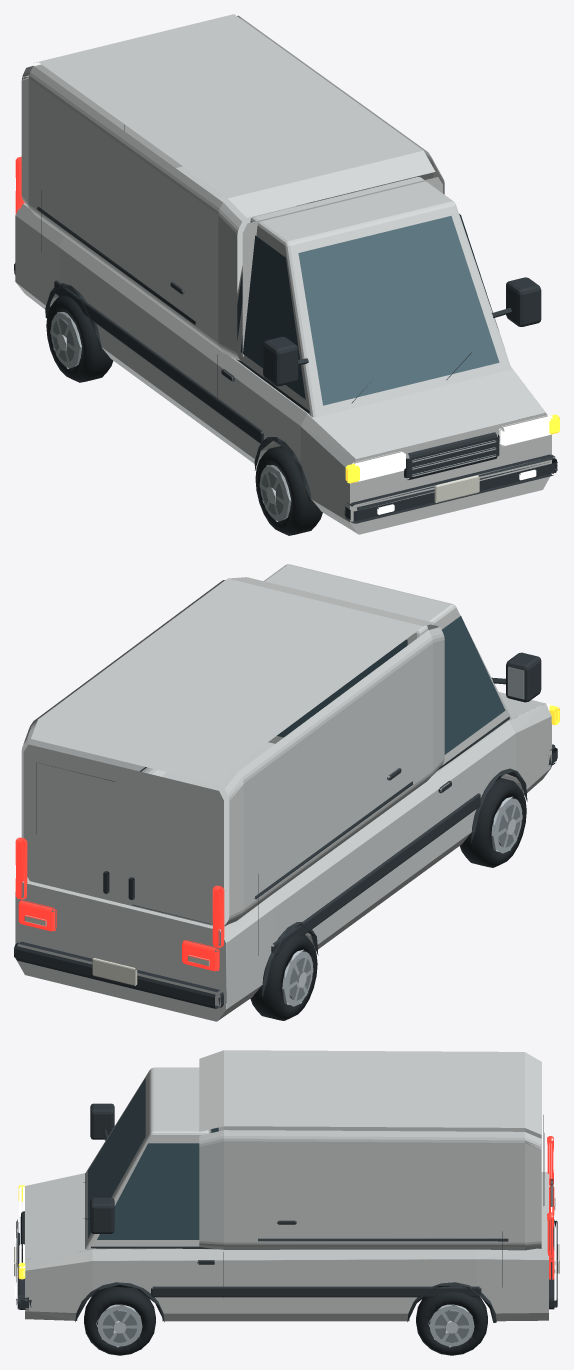
File: van.glb
The picture shows the model from 3 angles, top to bottom: view 1: azimuth 30°, elevation 25°; view 2: azimuth 150°, elevation 25°; view 3: azimuth 270°, elevation 25°; orthographic projection. The views are drawn at different scales.
Visible parts, largest first — view 1: BodyMesh_Paint_VanWhite, ShapeSafe_BodyMesh_Glass_Reflection, ShapeSafe_BodyMesh_Paint_VanWhite, BodyMesh_Trim_Graphite, ShapeSafe_BodyMesh_Glass_StylizedOpaque, ShapeSafe_BodyMesh_Trim_Graphite, Wheel_FR.005_Mesh_Rubber_Tires, Wheel_RR.005_Mesh_Rubber_Tires, Headlamp_L.005, Headlamp_R.005, BodyMesh_Plate_Bone, Wheel_FR.005_Mesh_Metal_SatinAluminum (+2 smaller); view 2: BodyMesh_Paint_VanWhite, BodyMesh_Trim_Graphite, ShapeSafe_BodyMesh_Glass_StylizedOpaque, ShapeSafe_BodyMesh_Paint_VanWhite, Wheel_FR.005_Mesh_Rubber_Tires, Wheel_RR.005_Mesh_Rubber_Tires, BodyMesh_Plate_Bone, ShapeSafe_BodyMesh_Trim_Graphite, TailLamp_1.005, Wheel_RR.005_Mesh_Metal_SatinAluminum, Wheel_FR.005_Mesh_Metal_SatinAluminum, TailLamp_-1.005 (+2 smaller); view 3: BodyMesh_Paint_VanWhite, BodyMesh_Trim_Graphite, ShapeSafe_BodyMesh_Glass_StylizedOpaque, ShapeSafe_BodyMesh_Paint_VanWhite, ShapeSafe_BodyMesh_Glass_Reflection, Wheel_FL.005_Mesh_Rubber_Tires, Wheel_RL.005_Mesh_Rubber_Tires, ShapeSafe_BodyMesh_Trim_Graphite, Wheel_RL.005_Mesh_Metal_SatinAluminum, Wheel_FL.005_Mesh_Metal_SatinAluminum, Wheel_FL.005_Mesh_Brake_Disc, Wheel_RL.005_Mesh_Brake_Disc.
Boxes of the visible parts, x1,y1,x2,y2 form: BodyMesh_Paint_VanWhite: (15,14,551,534); ShapeSafe_BodyMesh_Glass_Reflection: (298,215,499,405); ShapeSafe_BodyMesh_Paint_VanWhite: (236,177,511,417); BodyMesh_Trim_Graphite: (14,124,557,523); ShapeSafe_BodyMesh_Glass_StylizedOpaque: (237,214,499,399); ShapeSafe_BodyMesh_Trim_Graphite: (263,277,541,386); Wheel_FR.005_Mesh_Rubber_Tires: (255,446,322,535); Wheel_RR.005_Mesh_Rubber_Tires: (46,295,113,382); Headlamp_L.005: (499,415,552,446); Headlamp_R.005: (350,451,405,482); BodyMesh_Plate_Bone: (434,475,479,502); Wheel_FR.005_Mesh_Metal_SatinAluminum: (259,465,291,521); BodyMesh_Paint_VanWhite: (15,577,551,1021); BodyMesh_Trim_Graphite: (14,677,557,1008); ShapeSafe_BodyMesh_Glass_StylizedOpaque: (277,616,505,754); ShapeSafe_BodyMesh_Paint_VanWhite: (264,564,511,775); Wheel_FR.005_Mesh_Rubber_Tires: (460,778,526,867); Wheel_RR.005_Mesh_Rubber_Tires: (250,934,317,1020); BodyMesh_Plate_Bone: (24,915,209,985); ShapeSafe_BodyMesh_Trim_Graphite: (506,652,541,702); TailLamp_1.005: (18,900,56,931); Wheel_RR.005_Mesh_Metal_SatinAluminum: (282,949,313,1006); Wheel_FR.005_Mesh_Metal_SatinAluminum: (491,796,522,853); TailLamp_-1.005: (182,940,219,971); BodyMesh_Paint_VanWhite: (25,1050,548,1321); BodyMesh_Trim_Graphite: (16,1115,557,1322); ShapeSafe_BodyMesh_Glass_StylizedOpaque: (97,1127,218,1239); ShapeSafe_BodyMesh_Paint_VanWhite: (85,1067,211,1249); ShapeSafe_BodyMesh_Glass_Reflection: (88,1078,145,1238); Wheel_FL.005_Mesh_Rubber_Tires: (84,1286,155,1355); Wheel_RL.005_Mesh_Rubber_Tires: (416,1291,487,1355); ShapeSafe_BodyMesh_Trim_Graphite: (90,1103,114,1233); Wheel_RL.005_Mesh_Metal_SatinAluminum: (428,1304,474,1347); Wheel_FL.005_Mesh_Metal_SatinAluminum: (96,1304,142,1347); Wheel_FL.005_Mesh_Brake_Disc: (103,1310,136,1342); Wheel_RL.005_Mesh_Brake_Disc: (435,1310,468,1342).
Size of the model in its own units: 2.51 by 2.56 by 5.62.
